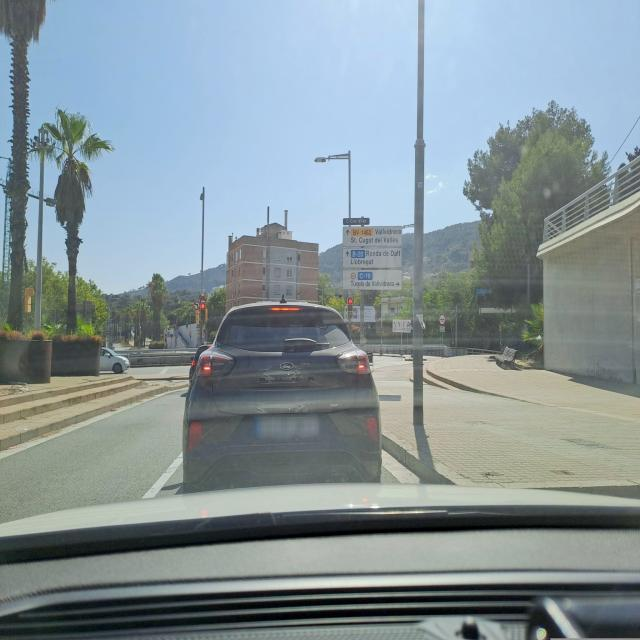car: (181, 298, 382, 493), (99, 346, 131, 374)
